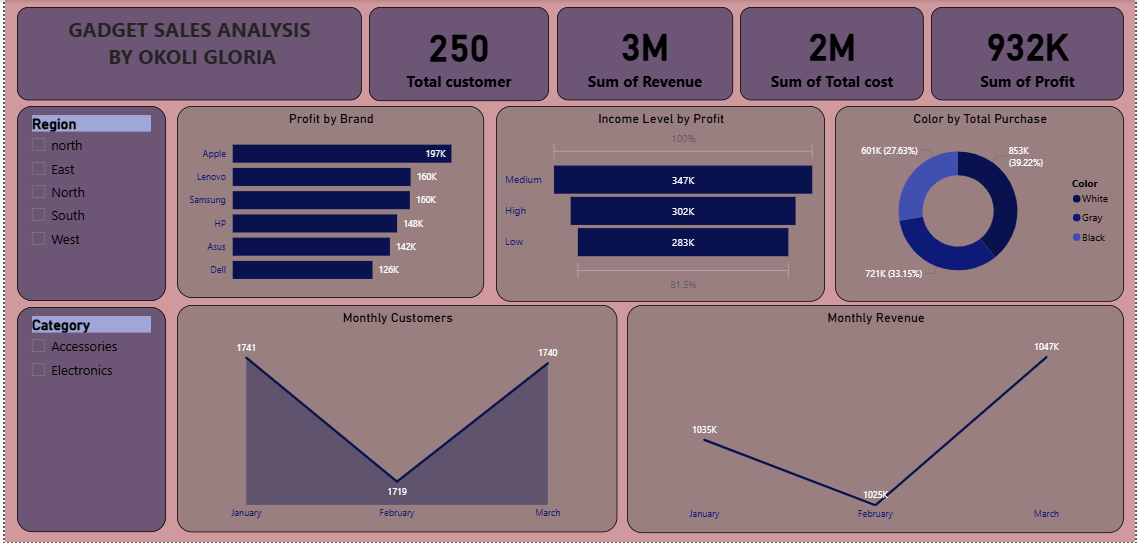

The page's visual inventory and layout, read from the dashboard file:
{"tool":"powerbi","page":{"name":"Page 1","canvas":[1500,720],"ordinal":0},"visuals":[{"type":"card","fields":{"Values":["Sales.Total customer"]},"box":[483.5,9.3,239.1,124.9],"z":0},{"type":"card","fields":{"Values":["Sum(Sales.Revenue)"]},"box":[733.3,9.3,233.8,123.5],"z":1000},{"type":"card","fields":{"Values":["Sum(Sales.Total cost)"]},"box":[976.4,9.3,244.4,123.5],"z":2000},{"type":"card","fields":{"Values":["Sum(Sales.Profit)"]},"box":[1230.1,9.3,256.4,123.5],"z":3000},{"type":"barChart","title":"Profit by Brand","fields":{"Category":["Products.Brand"],"Y":["Sum(Sales.Profit)"]},"box":[229,140.3,408.1,254.8],"z":4000},{"type":"donutChart","title":"Color by Total Purchase","fields":{"Category":["Products.Color"],"Y":["Sum(Sales.Total cost)"]},"box":[1103.2,140.3,383.9,259.7],"z":5000},{"type":"lineChart","title":"Monthly Revenue","fields":{"Category":["Sales.SaleDate.Variation.Date Hierarchy.Month"],"Y":["Sum(Sales.Revenue)"]},"box":[826.8,405.4,660,302.9],"z":6000},{"type":"areaChart","title":"Monthly Customers","fields":{"Category":["Sales.SaleDate.Variation.Date Hierarchy.Month"],"Y":["CountNonNull(Sales.CustomerID)"]},"box":[228.5,405.2,584.5,301.5],"z":7000},{"type":"funnel","title":" Income Level by Profit","fields":{"Category":["Customers.IncomeLevel"],"Y":["Sum(Sales.Profit)"]},"box":[651.6,140.3,437.1,259.7],"z":8000},{"type":"textbox","box":[15.9,9.3,458.3,123.5],"z":9000},{"type":"slicer","fields":{"Values":["Customers.Region"]},"box":[15.9,140.8,197.9,259],"z":10000},{"type":"slicer","fields":{"Values":["Products.Category"]},"box":[15.9,407.8,197.9,298.9],"z":11000}]}

Visuals, with their boxes in screenshot pixels (x1, y1, x2, y2), scaled from the page's 1500x720 canvas onto the 1138x543 screenshot:
card - Sales.Total customer: x1=367, y1=7, x2=548, y2=101
card - Sum(Sales.Revenue): x1=556, y1=7, x2=734, y2=100
card - Sum(Sales.Total cost): x1=741, y1=7, x2=926, y2=100
card - Sum(Sales.Profit): x1=933, y1=7, x2=1128, y2=100
"Profit by Brand" barChart: x1=174, y1=106, x2=483, y2=298
"Color by Total Purchase" donutChart: x1=837, y1=106, x2=1128, y2=302
"Monthly Revenue" lineChart: x1=627, y1=306, x2=1128, y2=534
"Monthly Customers" areaChart: x1=173, y1=306, x2=617, y2=533
" Income Level by Profit" funnel: x1=494, y1=106, x2=826, y2=302
textbox: x1=12, y1=7, x2=360, y2=100
slicer - Customers.Region: x1=12, y1=106, x2=162, y2=302
slicer - Products.Category: x1=12, y1=308, x2=162, y2=533
